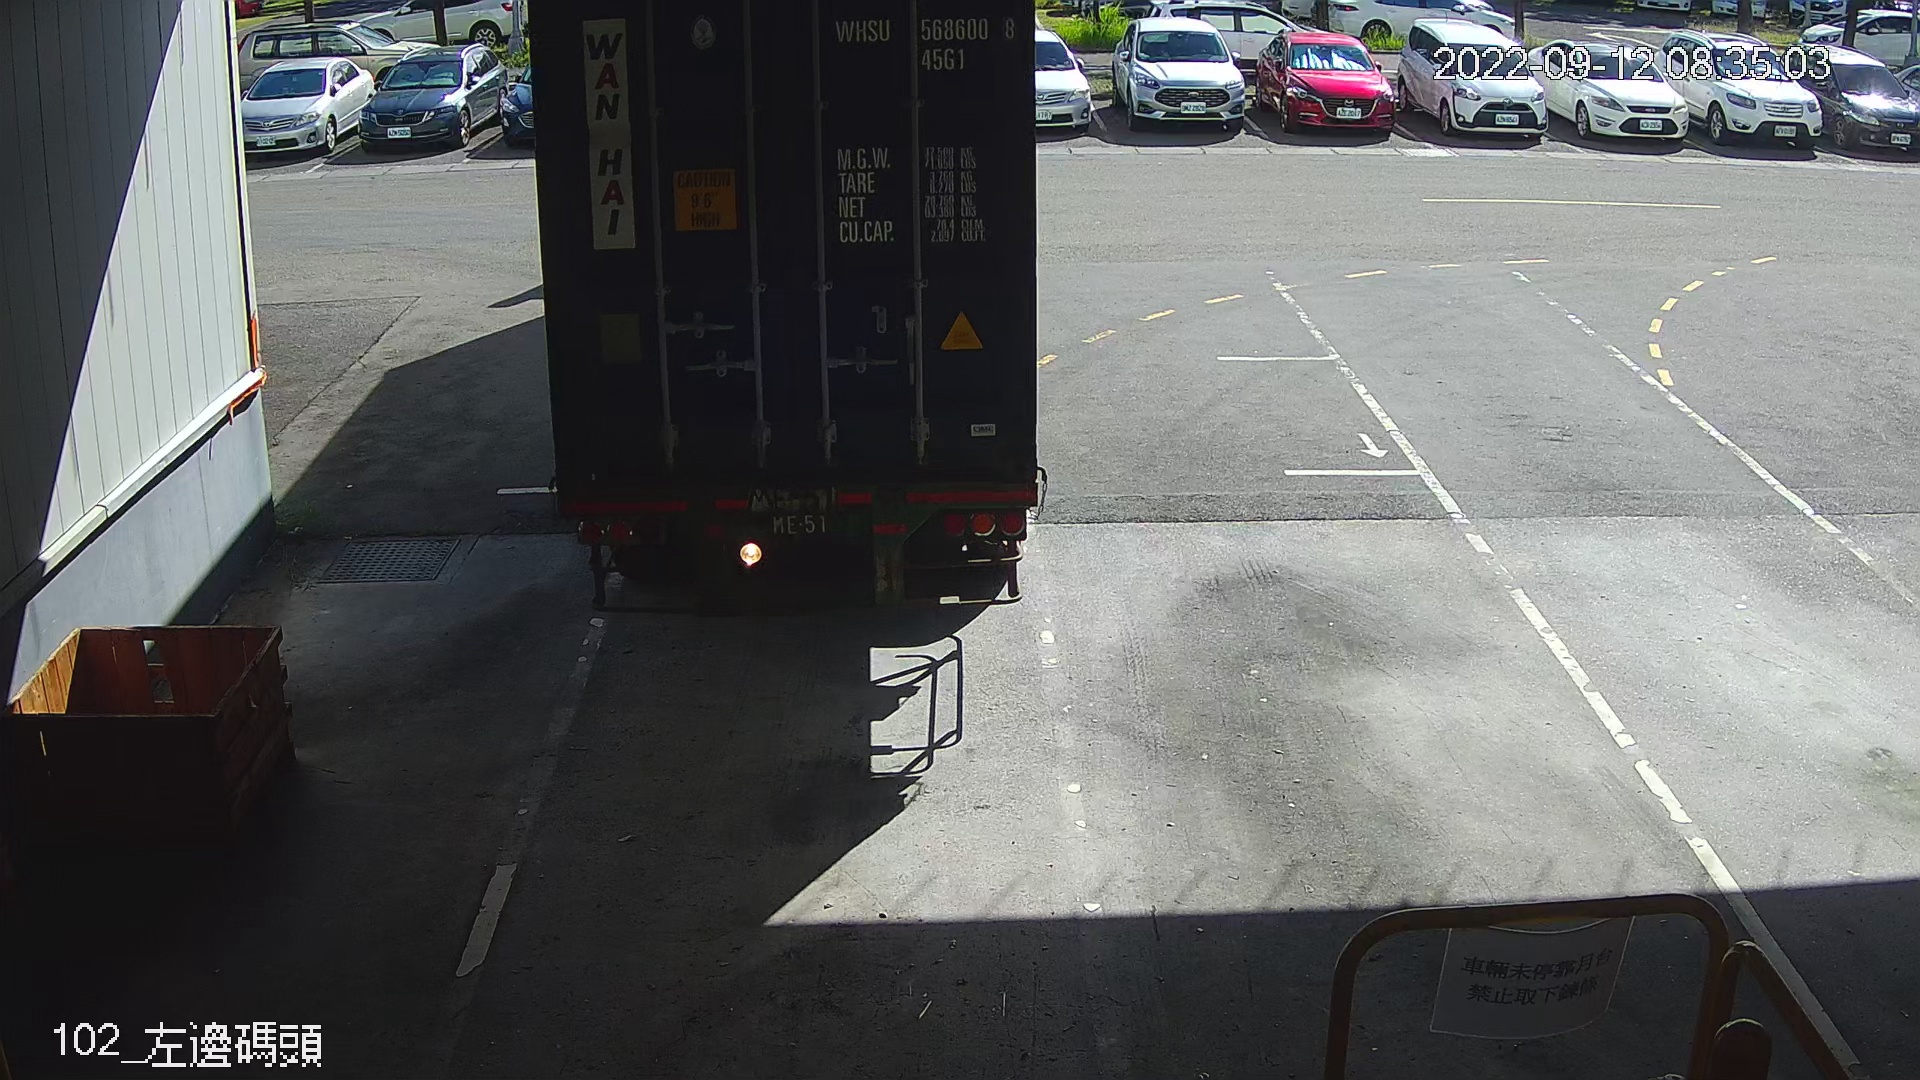container: (828, 5, 1025, 82)
